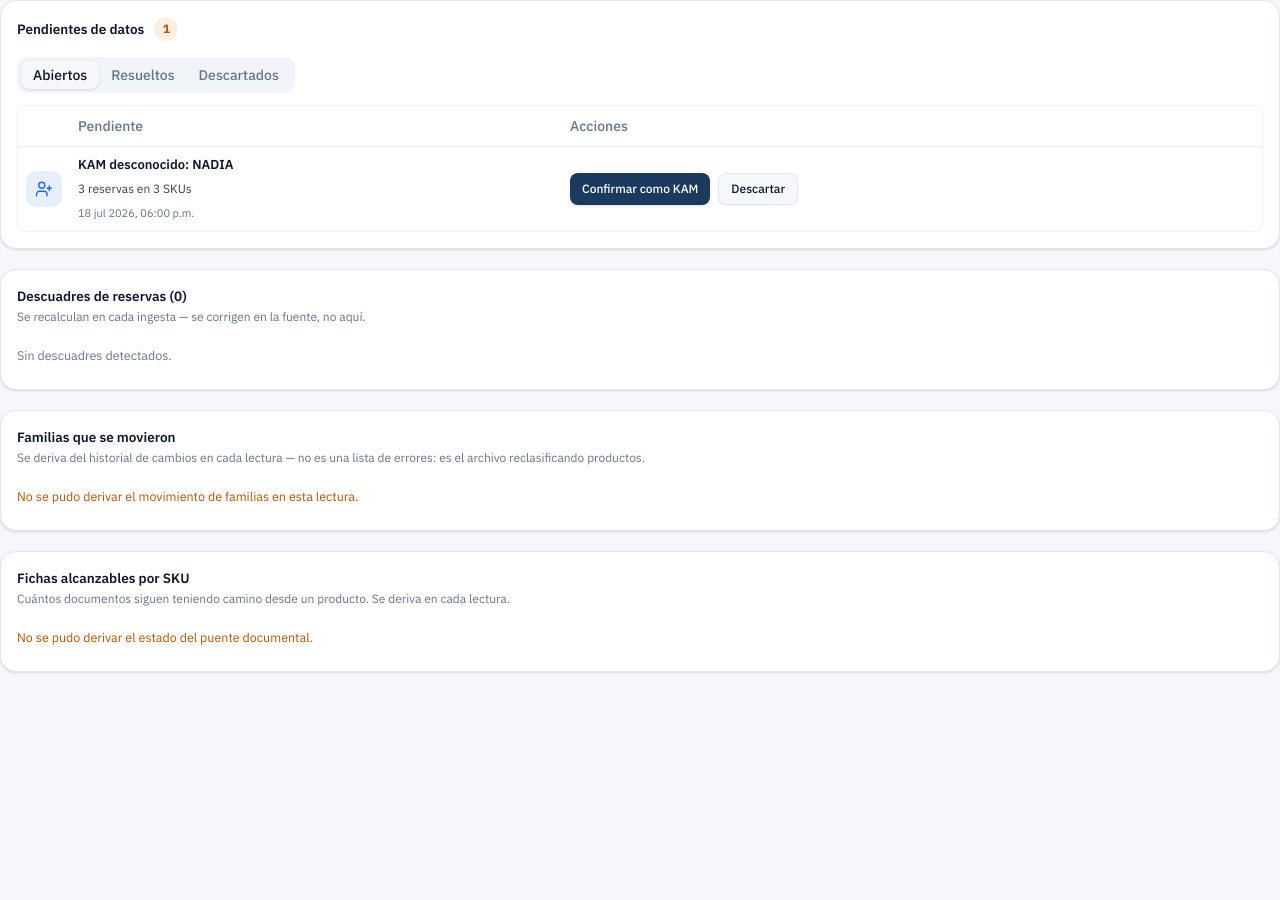
BandejaView › Confirmar como KAM: input precargado capitalizado, editable, y el valor EDITADO viaja en el POST
The width and height of the screenshot is (1280, 900).
Click the button "Confirmar como KAM": (640,188) [570, 172, 710, 204]
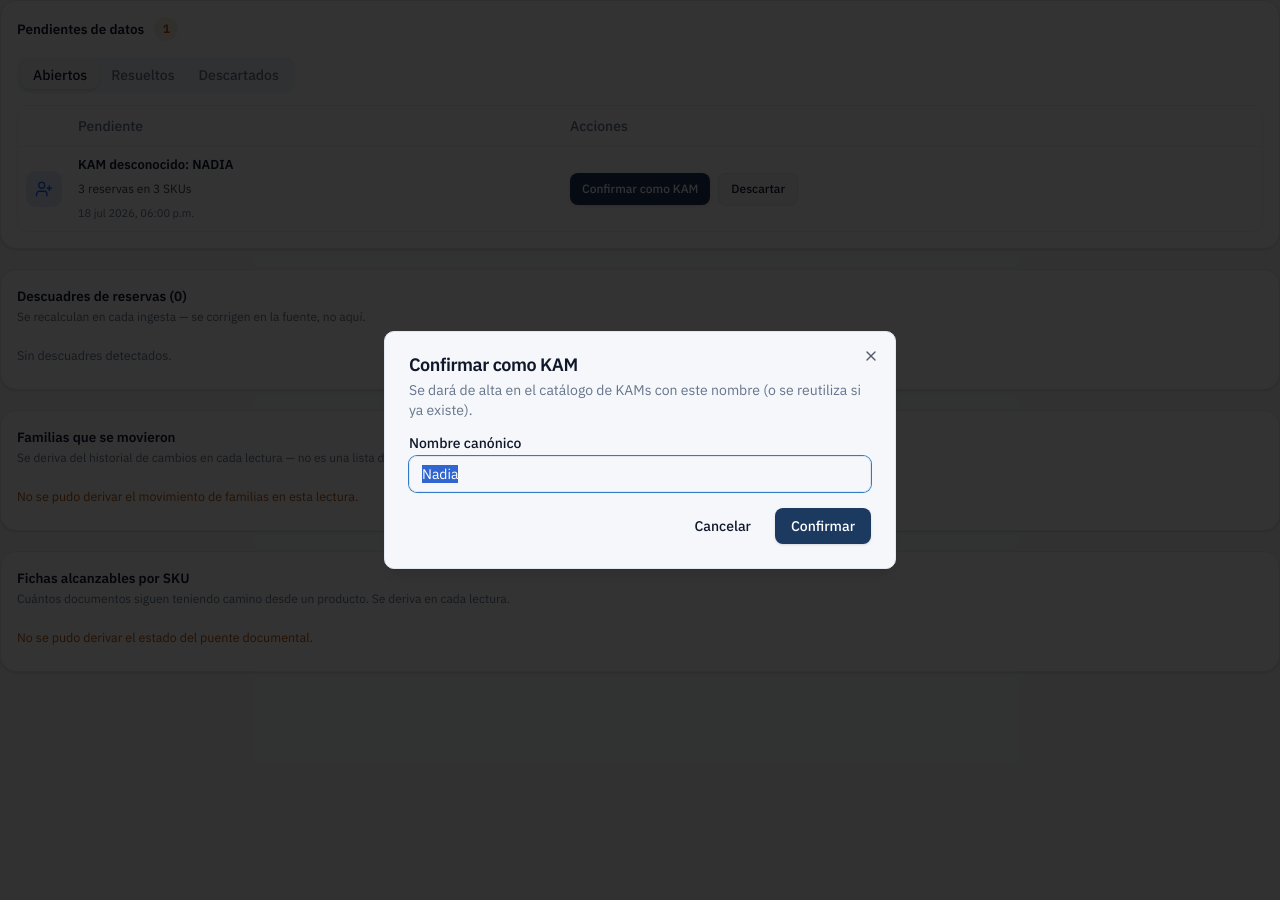
Now the field labelled "Nombre canónico" holds "Nadia"
Replace the text in the field labelled "Nombre canónico" with "Nadia Lara": (640,474) [409, 456, 871, 492]
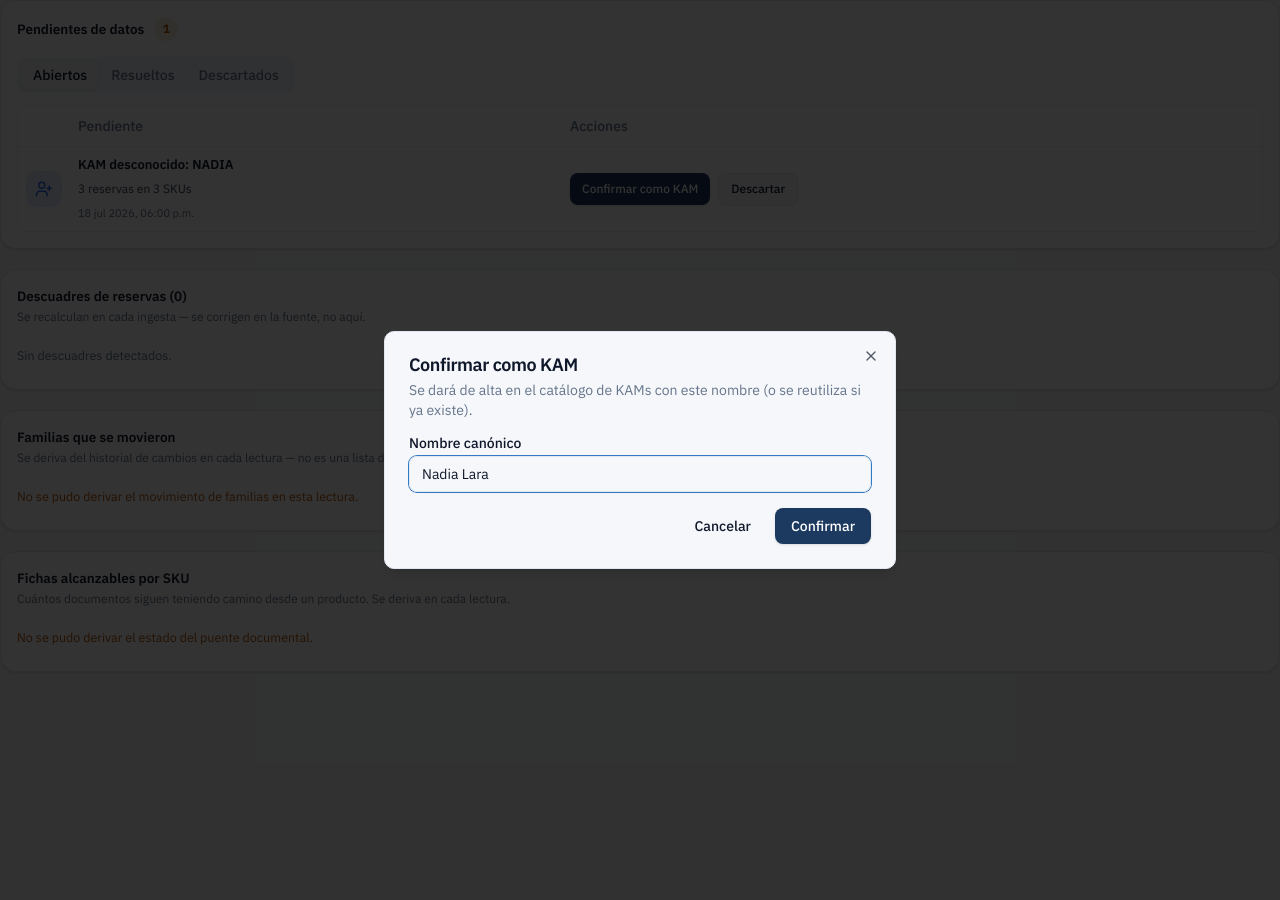
Click the button "Confirmar": (823,526) [775, 508, 871, 544]
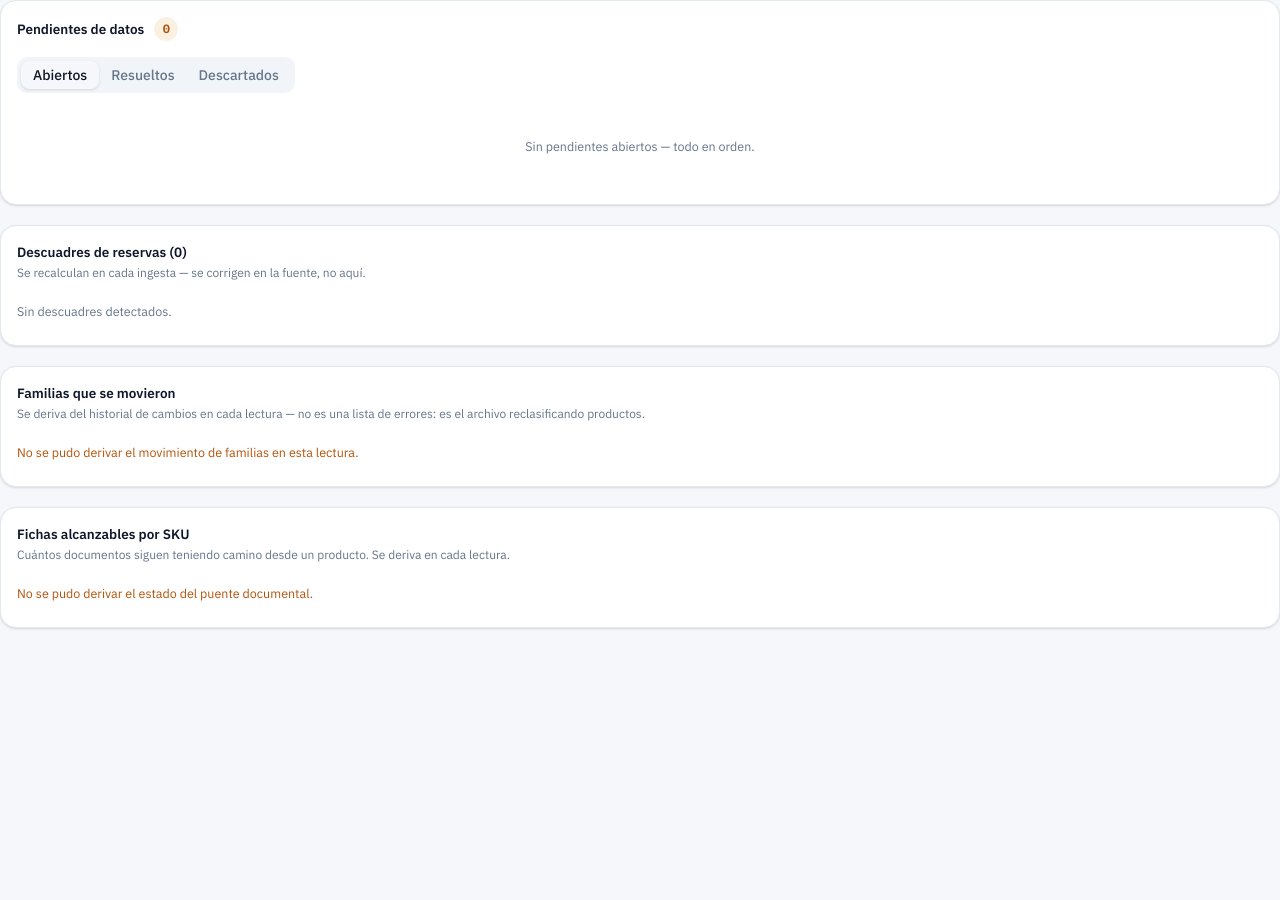
Now the button "Confirmar como KAM" is gone
